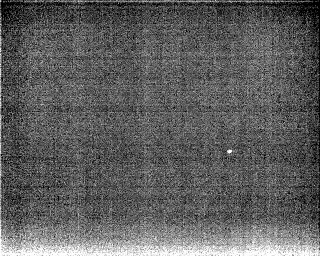AIRPLANE: (225, 146, 234, 156)
